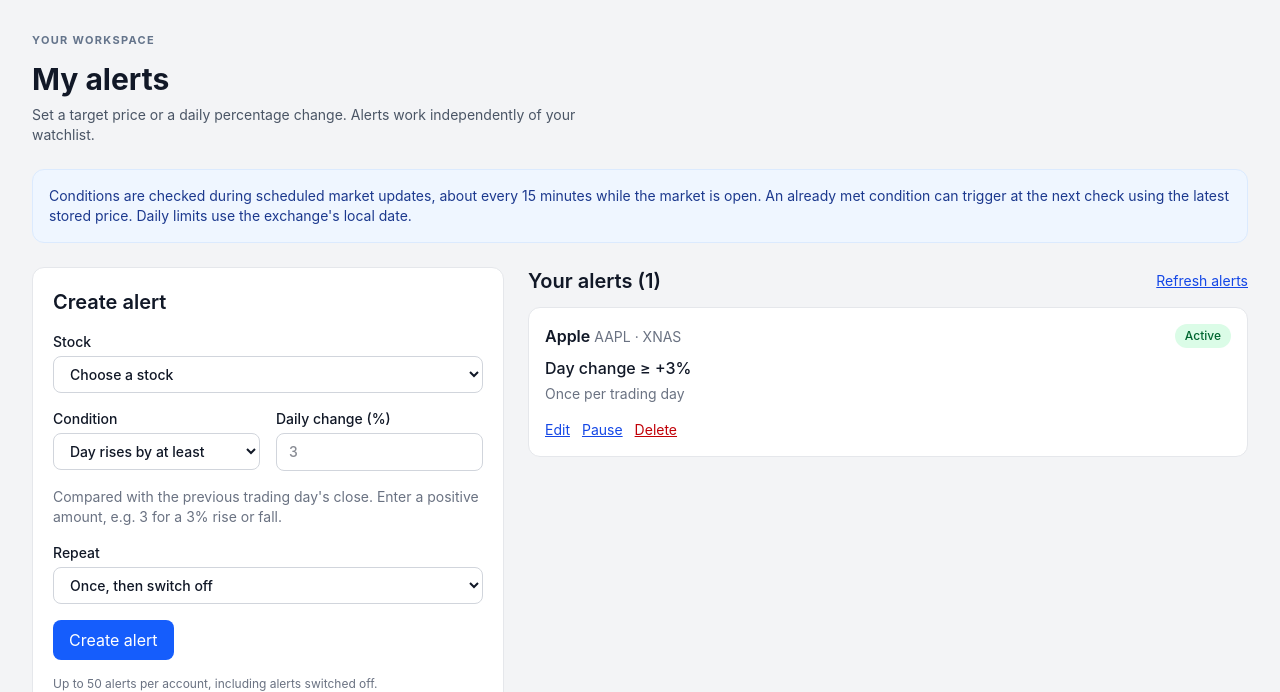
Test: Alerts › removes the confirmed alert
Click the button with aria-label "Delete alert for AAPL" at (656, 430), box left=635, top=420, right=677, bottom=440
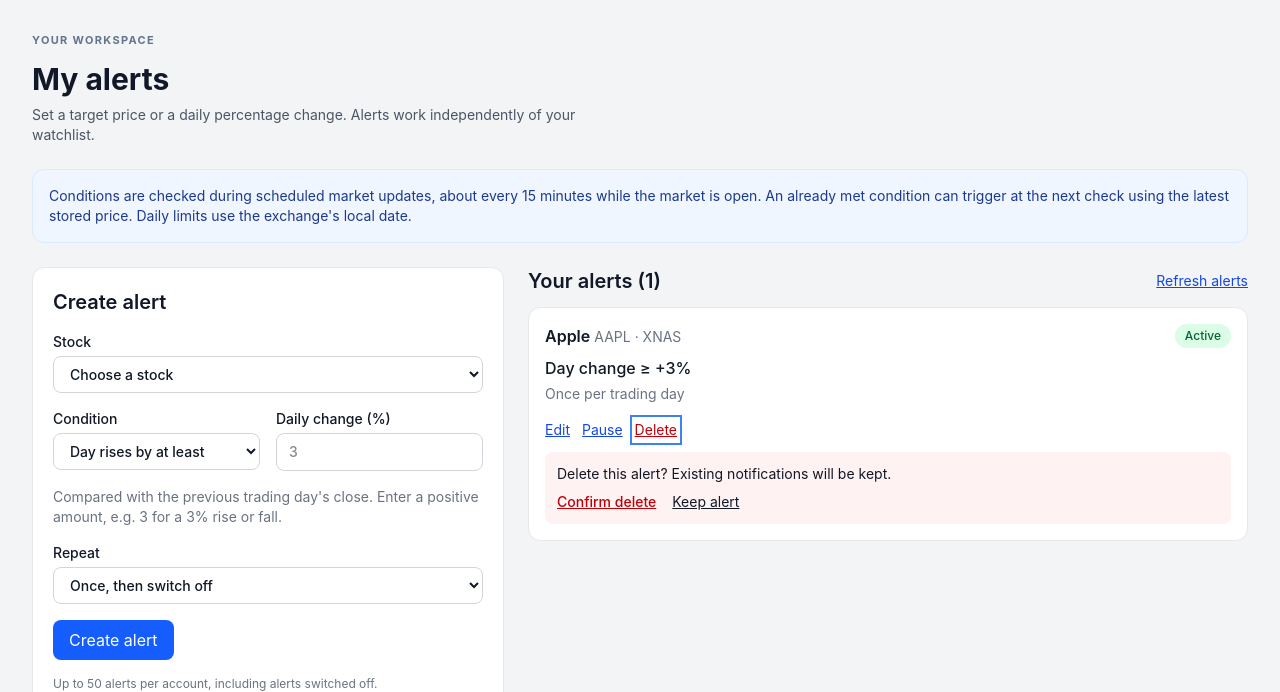
Click the button "Confirm delete" at (607, 502), box left=557, top=492, right=656, bottom=512
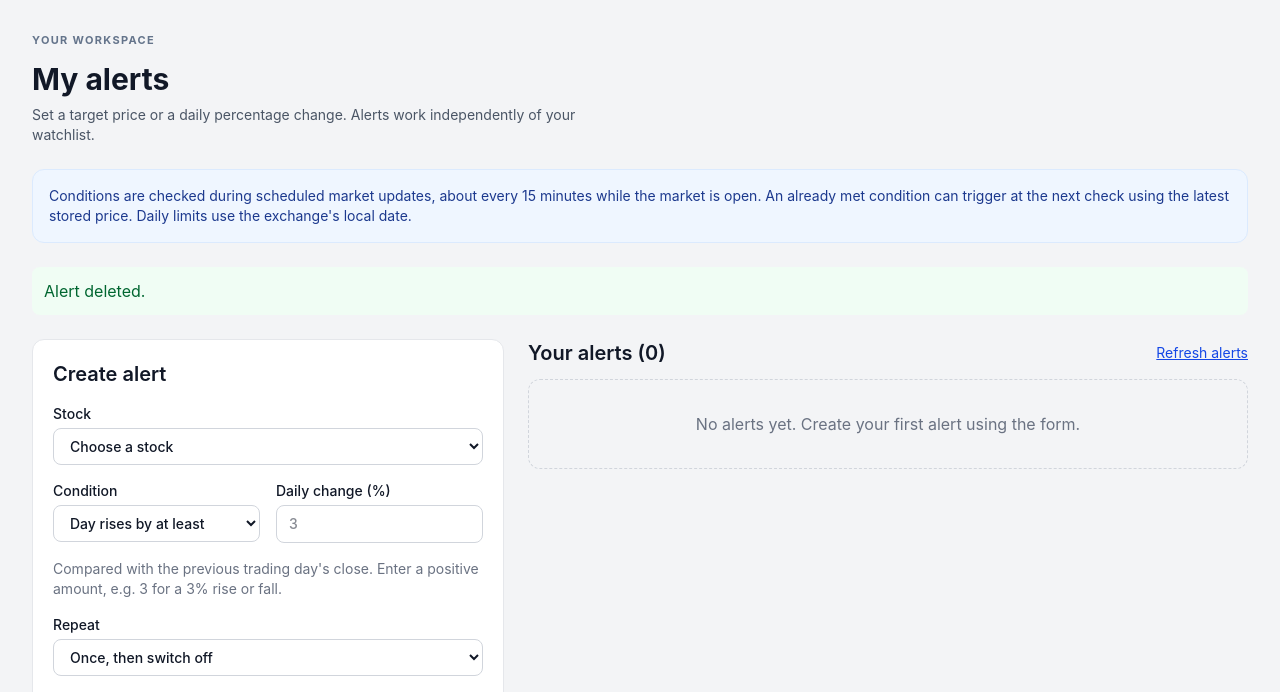
Check: the text "Alert deleted." is shown, box left=32, top=266, right=1248, bottom=314
Check: the text "Day change ≥ +3%" is gone
